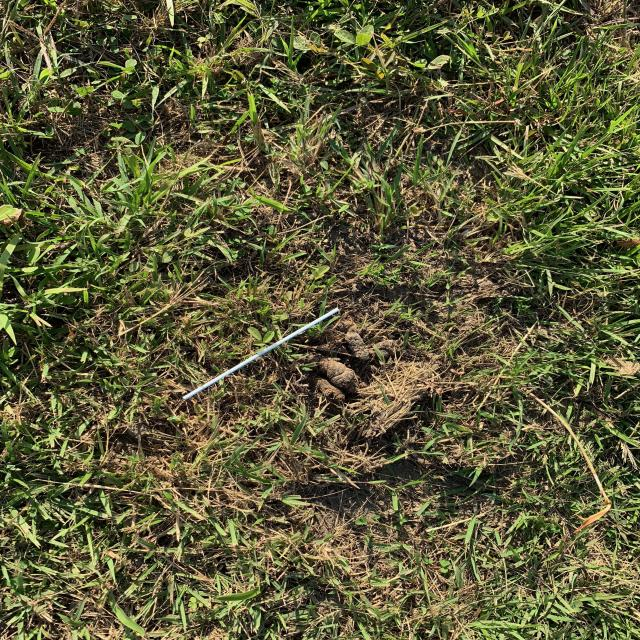litter: (182, 307, 339, 400)
